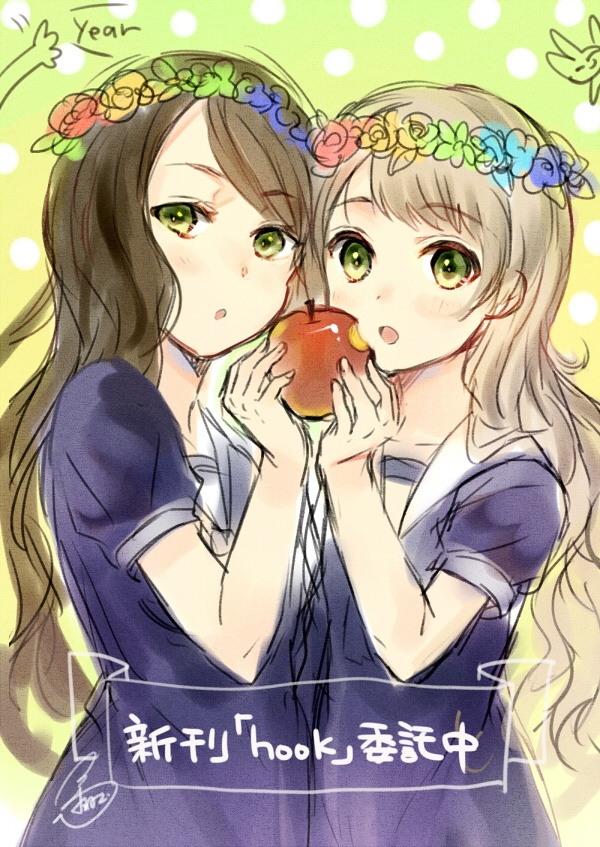纸片人正脸: (43, 41, 325, 363), (282, 85, 579, 376)
